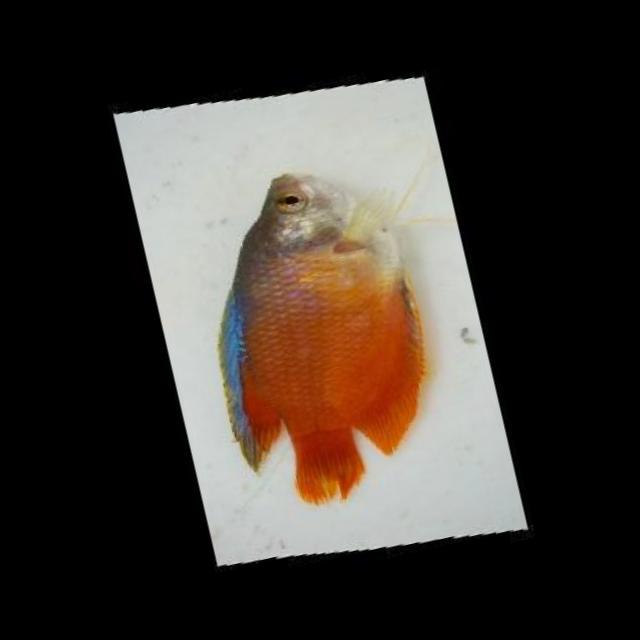Gourami: (170, 147, 456, 525)
